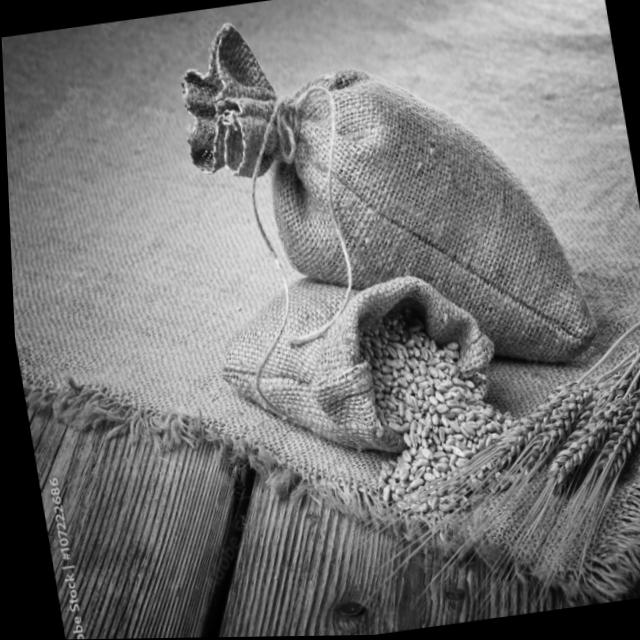sack: (166, 0, 599, 408), (205, 254, 506, 476)
